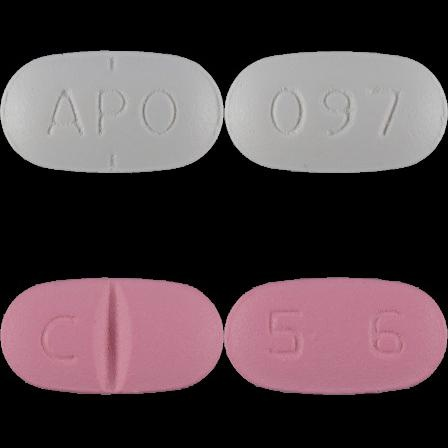53808-0748: (0, 0, 224, 224)
